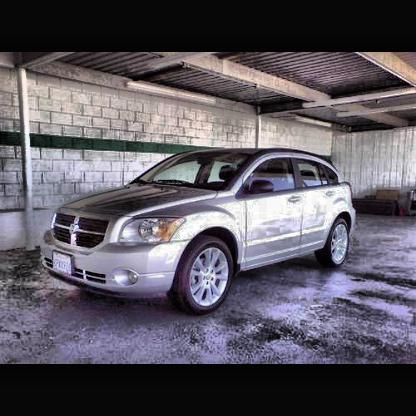Dodge Caliber Wagon 2012: (39, 147, 360, 320)
